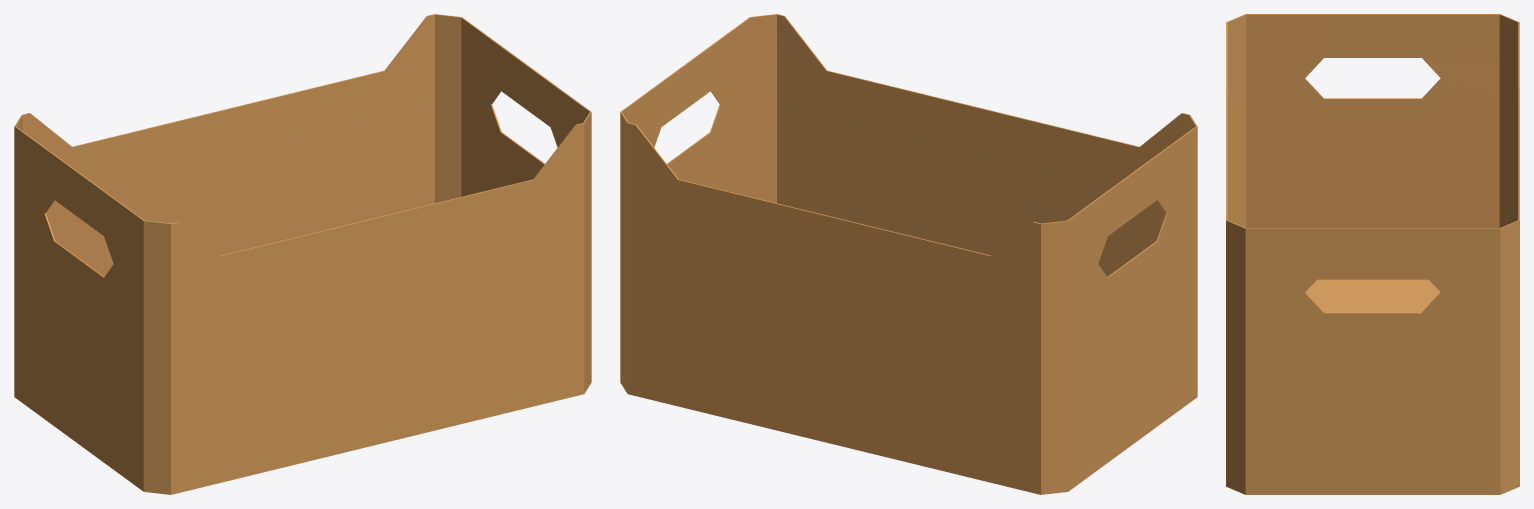
The model's file is pudlo.fbx.
3 renders of one model, left to right at view 1: azimuth 30°, elevation 25°; view 2: azimuth 150°, elevation 25°; view 3: azimuth 270°, elevation 25°, orthographic.
Parts seen in each view (by area): view 1: Cube; view 2: Cube; view 3: Cube.
Boxes of the visible parts, bbox=[...] form: Cube: bbox=[14, 14, 591, 494]; Cube: bbox=[620, 14, 1197, 494]; Cube: bbox=[1226, 14, 1519, 494].
Bounding box in the file's own units: 346 × 200 × 200.
